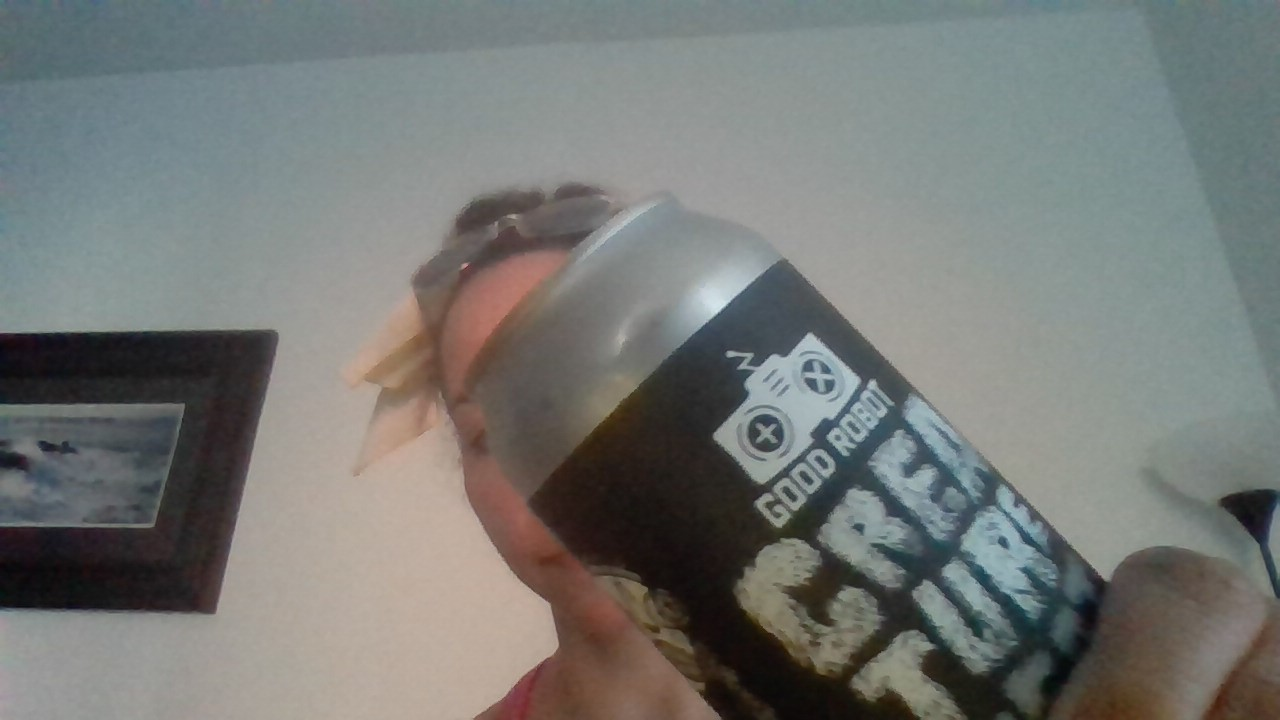Good Robot: (687, 321, 880, 471)
